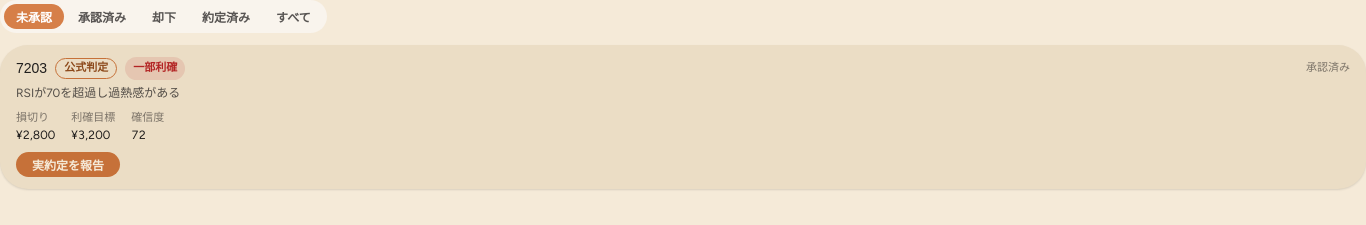
Test: SignalQueue › 実約定報告フォームは不正な値を弾く
Click the button "実約定を報告" at (68, 164), box [16,152,120,177]
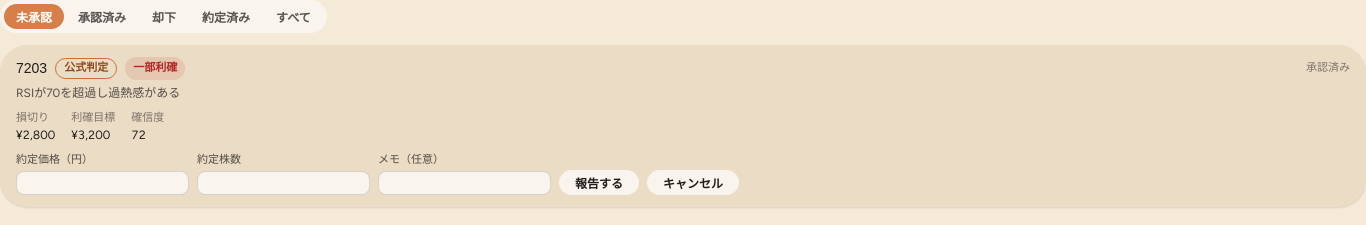
Type "-5" into the number field labelled "約定価格（円）" at (102, 182), box [16,170,189,194]
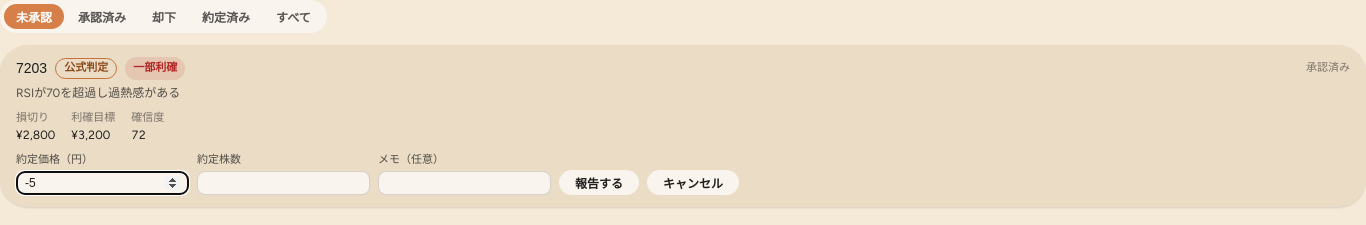
Type "10" into the number field labelled "約定株数" at (284, 182), box [197,170,370,194]
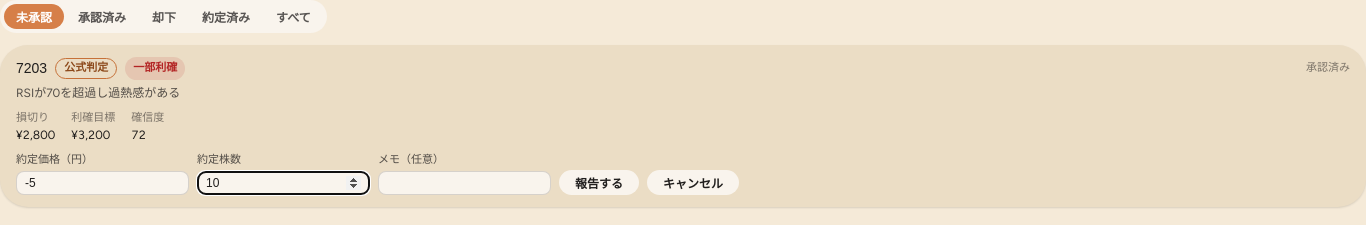
Click the button "報告する" at (599, 182), box [559,170,639,194]
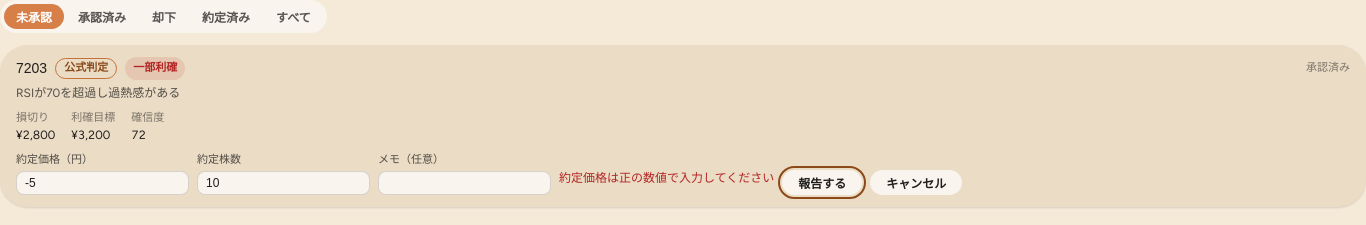
Now the text "約定価格は正の数値で入力してください" is shown, box [559,168,774,186]
